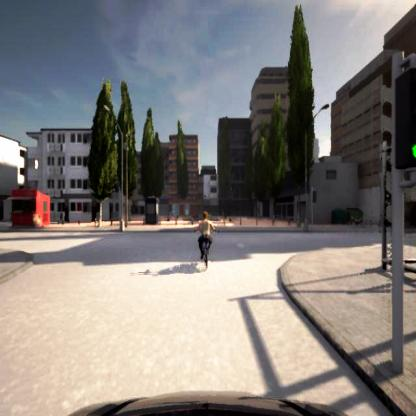bike: (194, 212, 216, 265)
